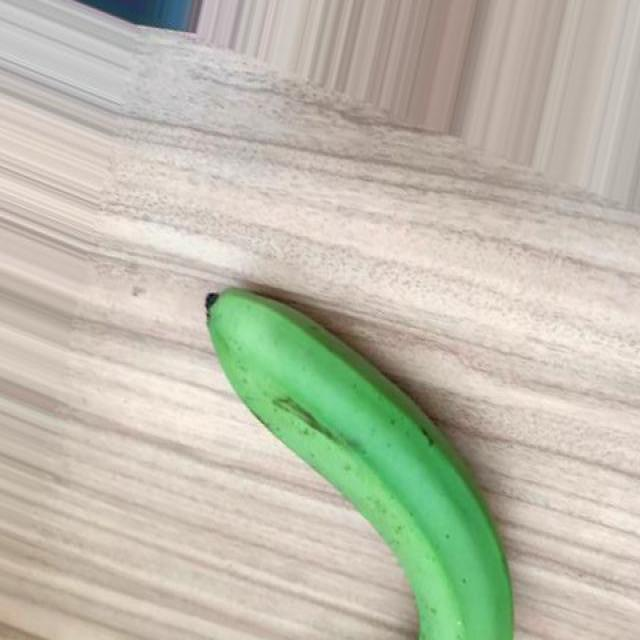Unripe: (203, 283, 516, 640)
